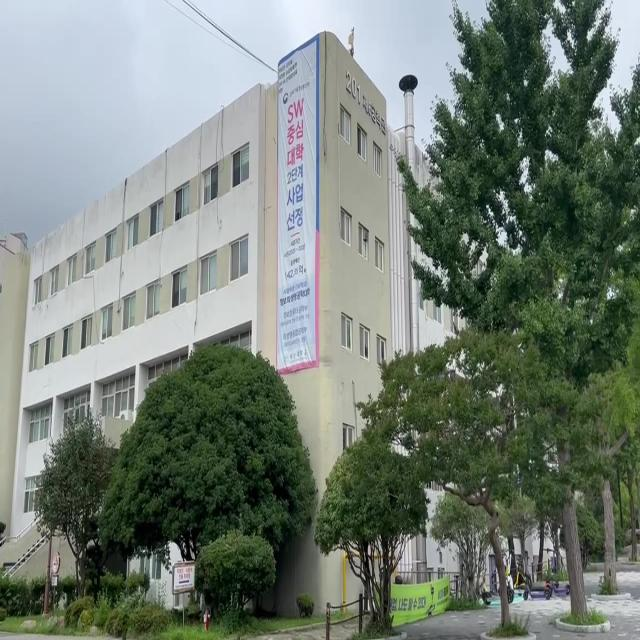building: (6, 153, 273, 351)
